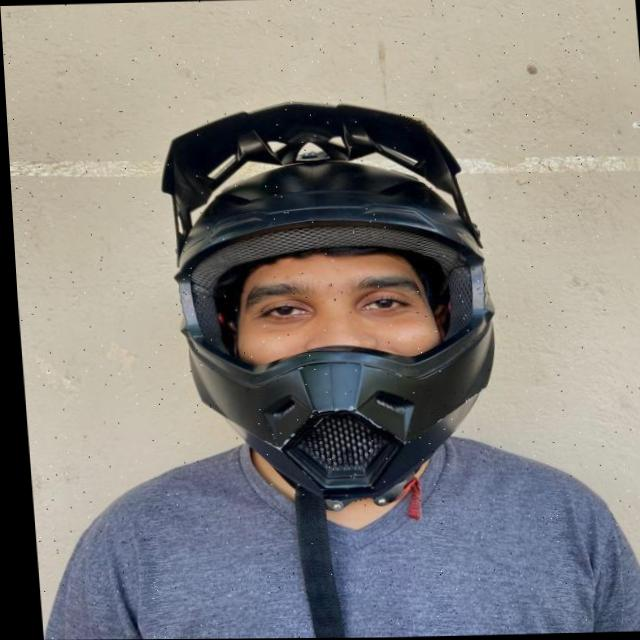helmet: (147, 98, 512, 639)
